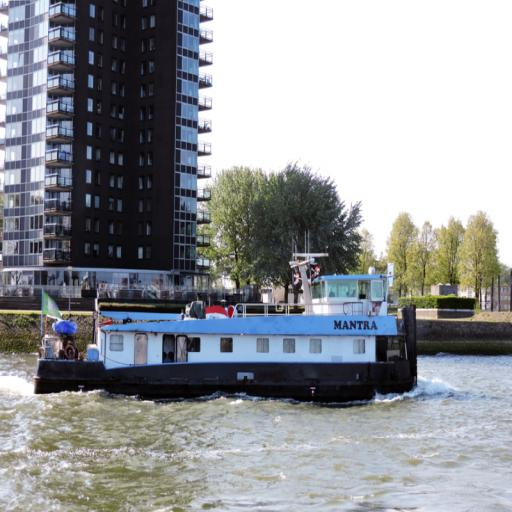tugboat: (31, 250, 423, 410)
